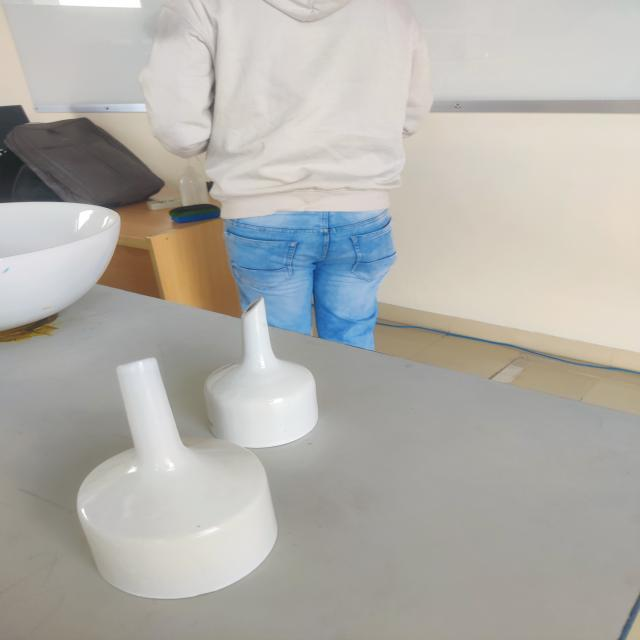Buchner_Funnel: (62, 346, 280, 607), (180, 287, 363, 459)
